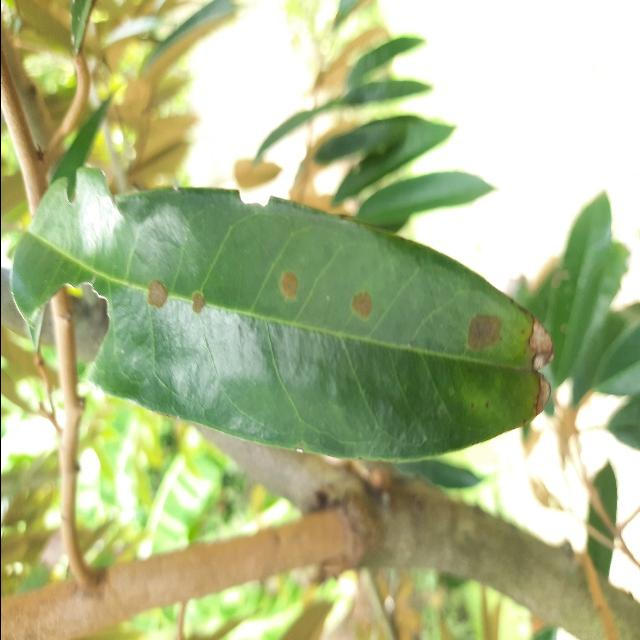Algal Leaf Spot: (1, 158, 571, 477)
